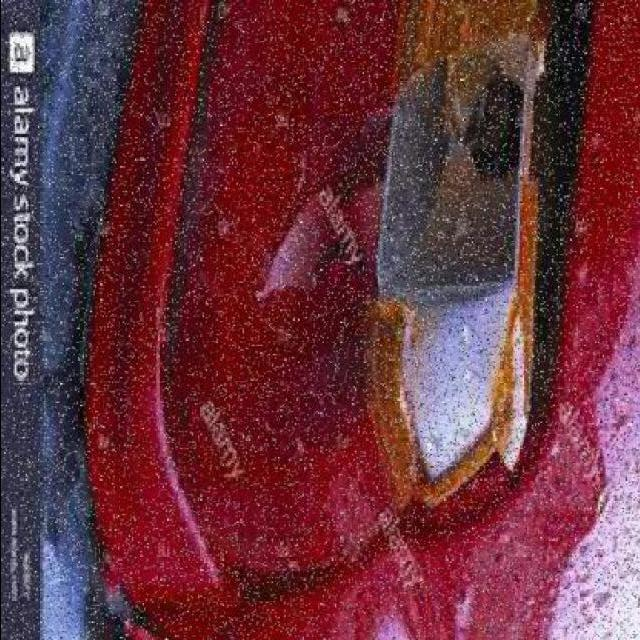Taillight-Damage: (298, 0, 592, 550)
